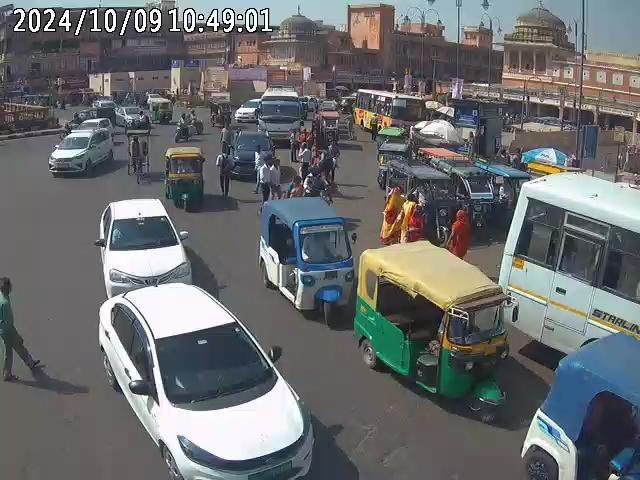auto: (352, 240, 512, 408), (518, 329, 639, 479), (257, 196, 357, 323), (402, 165, 458, 243), (162, 144, 206, 210), (146, 95, 173, 124)
bus: (495, 169, 639, 370), (355, 88, 426, 139)
car: (94, 280, 318, 479), (96, 197, 192, 300), (47, 128, 114, 176), (219, 127, 276, 179), (111, 103, 151, 130), (233, 98, 262, 122)
person: (0, 272, 33, 392), (380, 185, 409, 244), (445, 203, 473, 259), (257, 155, 279, 203), (216, 150, 232, 197), (296, 140, 313, 177)
rickshow: (126, 130, 152, 186)
